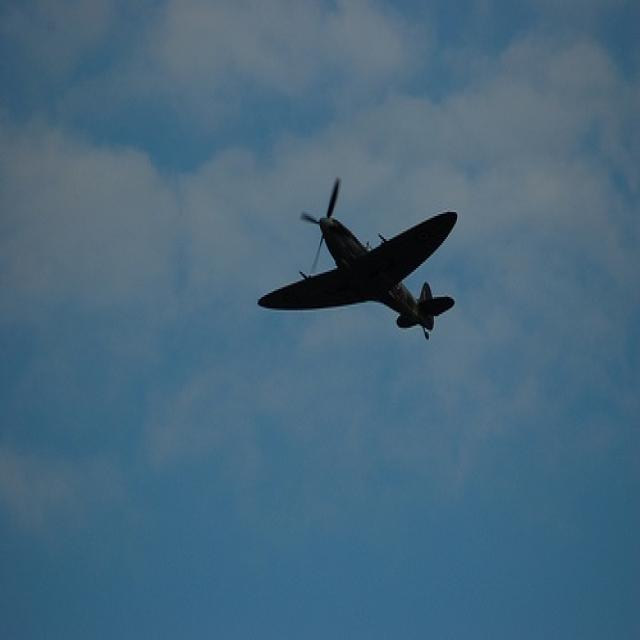aeroplane: (255, 177, 458, 349)
